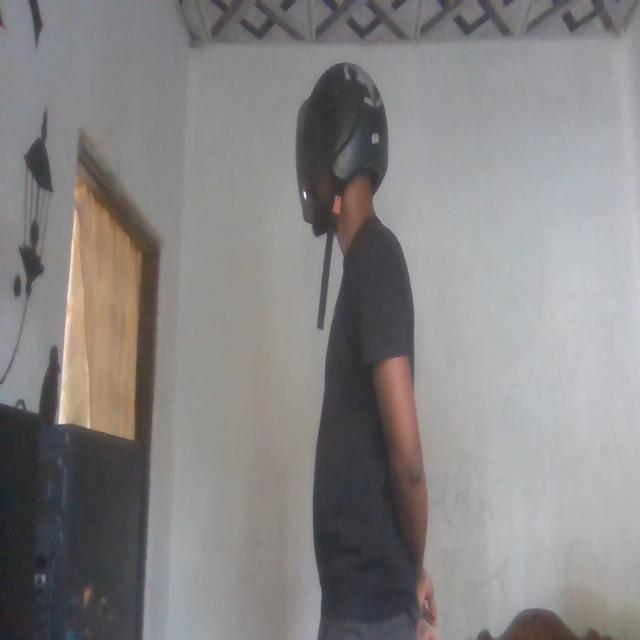Helmet_Wearer: (284, 60, 390, 239)
Person: (286, 57, 431, 640)
